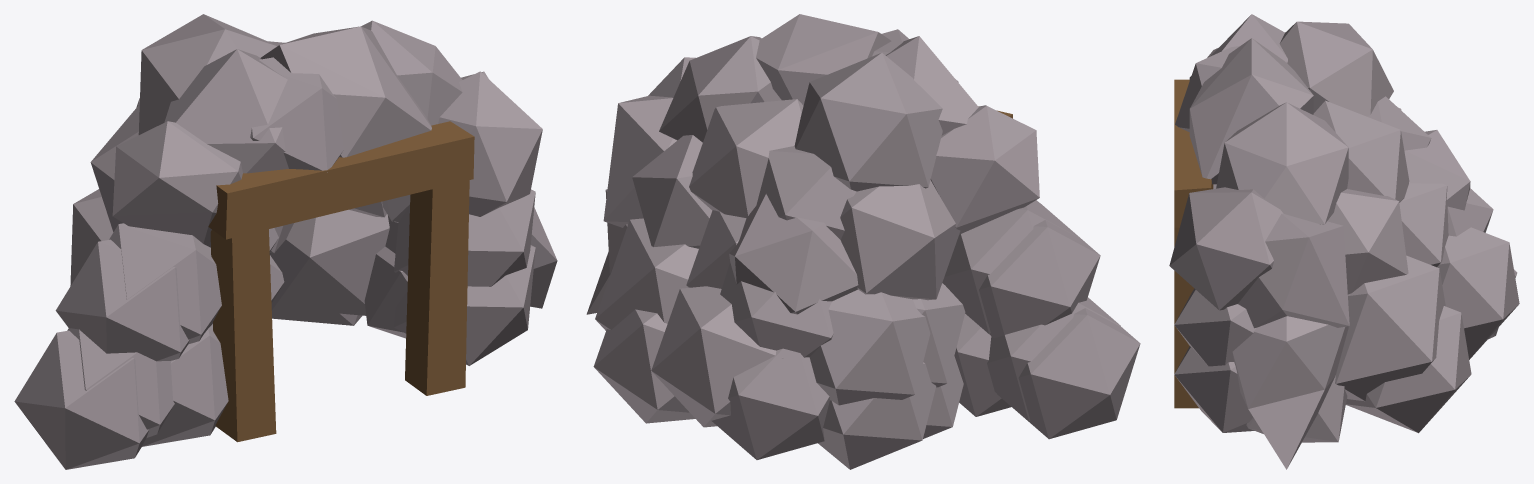
File: mine 1.fbx
3 renders of one model, left to right at view 1: azimuth 30°, elevation 25°; view 2: azimuth 150°, elevation 25°; view 3: azimuth 270°, elevation 25°, orthographic. The views are drawn at different scales.
Parts seen in each view (by area): view 1: Cube; view 2: Cube; view 3: Cube.
Boxes of the visible parts, <box> form: Cube: <box>14,14,557,469</box>; Cube: <box>586,14,1140,469</box>; Cube: <box>1169,14,1519,469</box>.
Size of the model in its own units: 491 by 344 by 312.
